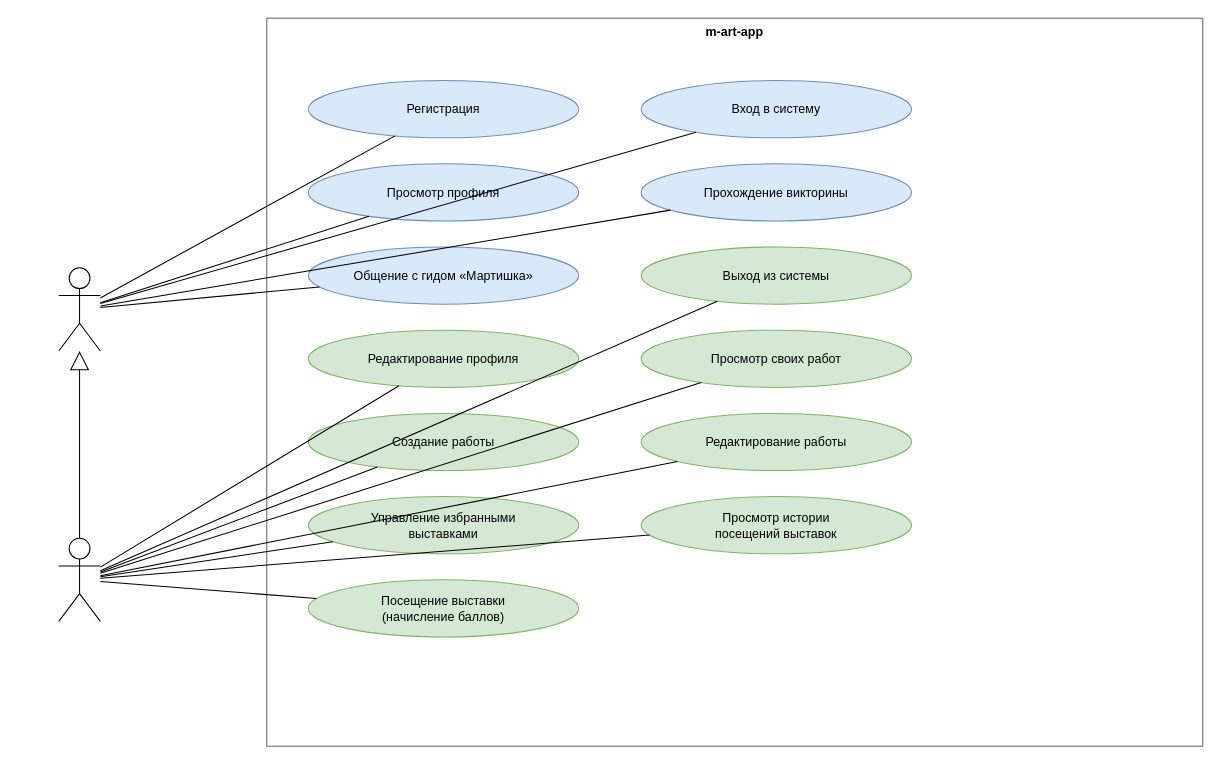
This 1221x764 diagram has some shape labels left out. The centre of each missing label's shape, as x and y in pixels:
"Гость" belongs at (x=79, y=309).
"Зарегистрированный пользователь" belongs at (x=79, y=579).
